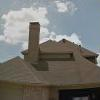Chimney: (23, 16, 43, 70)
